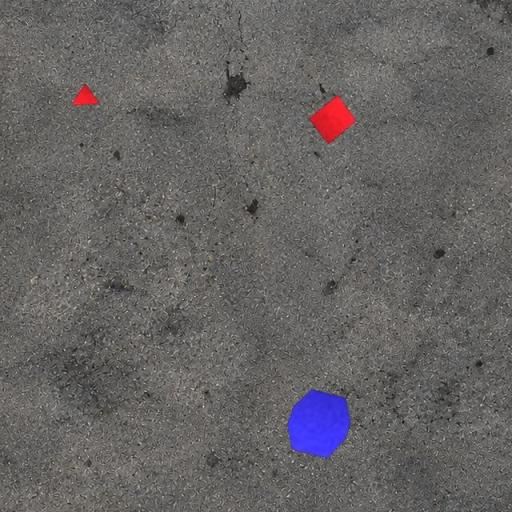RED_SQUARE: (308, 94, 357, 146)
